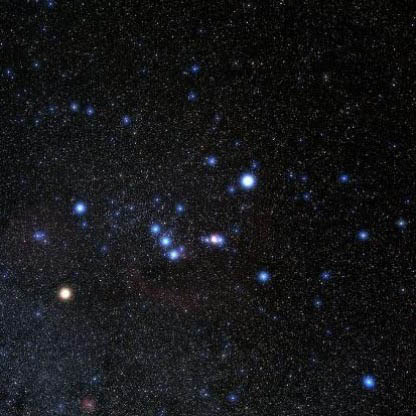Orion: (52, 284, 78, 309), (248, 262, 276, 284), (235, 167, 258, 192), (69, 198, 93, 217), (146, 218, 169, 233), (165, 250, 183, 267), (154, 234, 174, 249)
